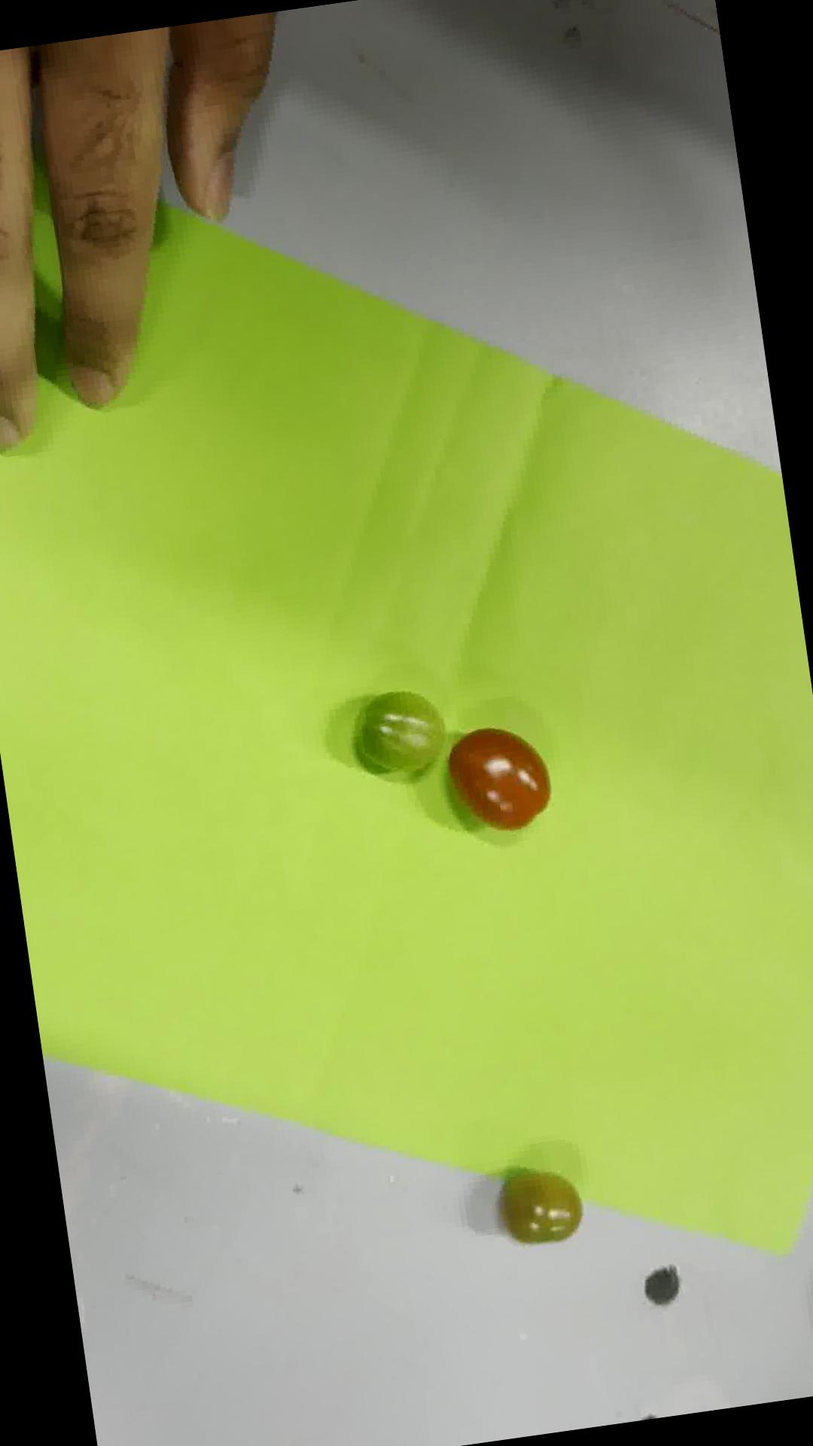green_cherry_tomato: (355, 691, 445, 775)
red_cherry_tomato: (448, 727, 550, 831)
yellow_cherry_tomato: (501, 1171, 582, 1243)
